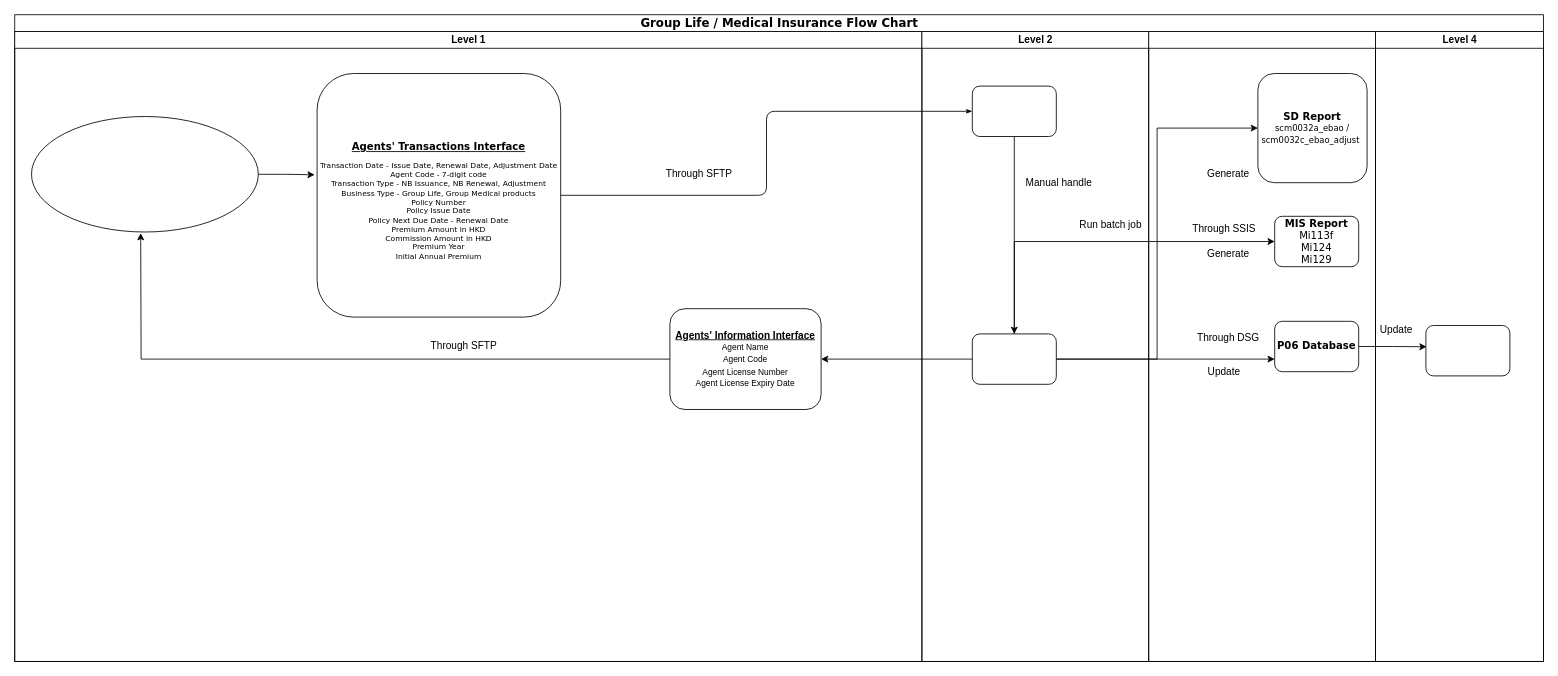
The diagram is 1558 pixels wide and 676 high, and some of its shapes have lost their labels. Each missing label, with the box of its shape:
Asia Insurance: (31, 116, 258, 232)
eBao: (971, 333, 1056, 384)
FT Life DSS user: (971, 85, 1056, 136)
Level 3: (1148, 31, 1376, 662)
P08: (1425, 325, 1510, 376)
